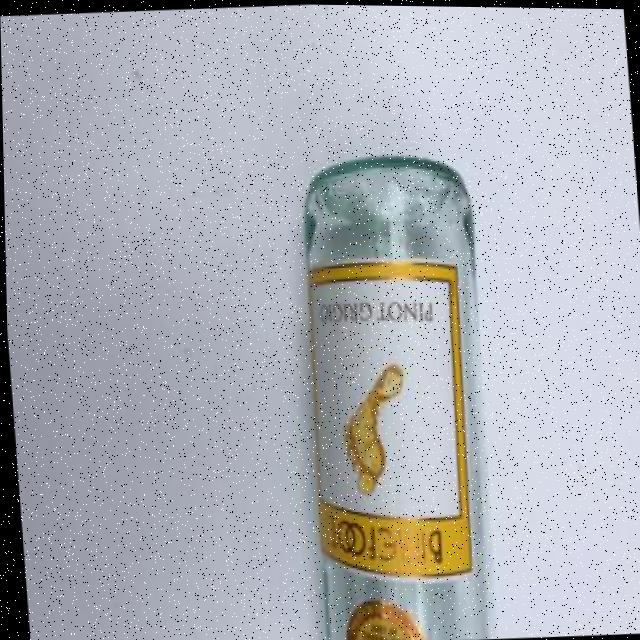glass: (285, 142, 514, 640)
